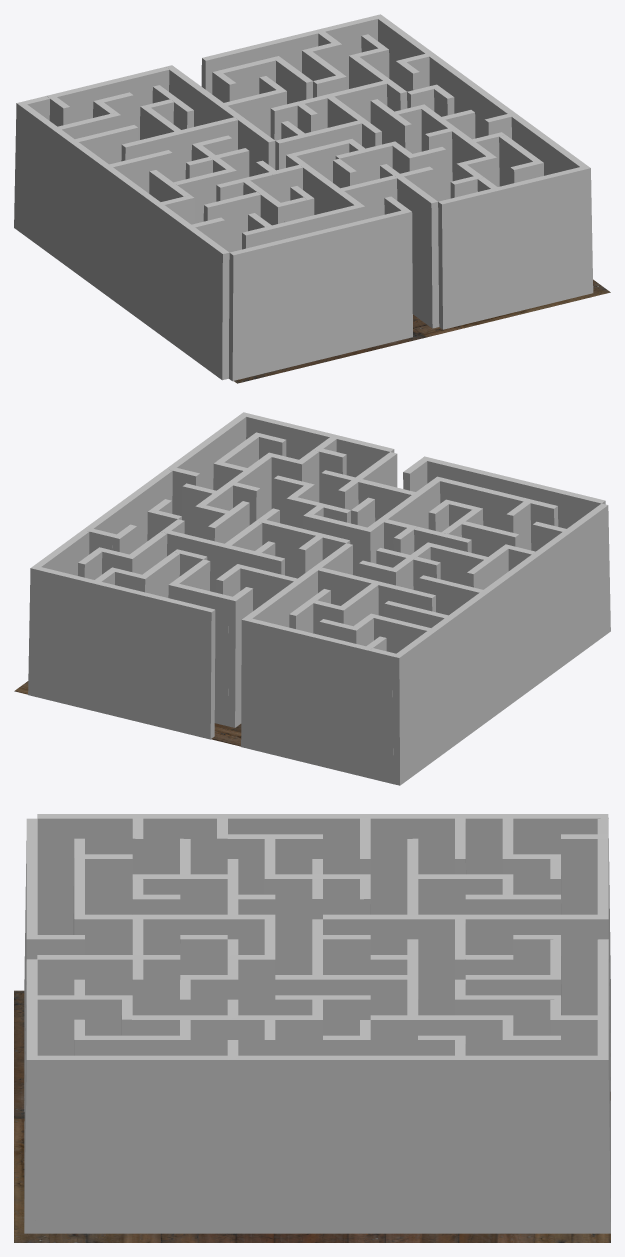
The model's file is mazeHoles.fbx.
The picture shows the model from 3 angles, top to bottom: view 1: azimuth 30°, elevation 25°; view 2: azimuth 150°, elevation 25°; view 3: azimuth 270°, elevation 25°; orthographic projection. The views are drawn at different scales.
Parts seen in each view (by area): view 1: Curve.018, Plane; view 2: Curve.018, Plane; view 3: Curve.018, Plane.
Boxes of the visible parts, x1=… form: Curve.018: x1=14, y1=14, x2=593, y2=381; Plane: x1=234, y1=279, x2=610, y2=383; Curve.018: x1=28, y1=412, x2=610, y2=785; Plane: x1=14, y1=681, x2=241, y2=746; Curve.018: x1=24, y1=814, x2=610, y2=1233; Plane: x1=14, y1=990, x2=610, y2=1242.
Bounding box in the file's own units: 102 × 32.14 × 100.
